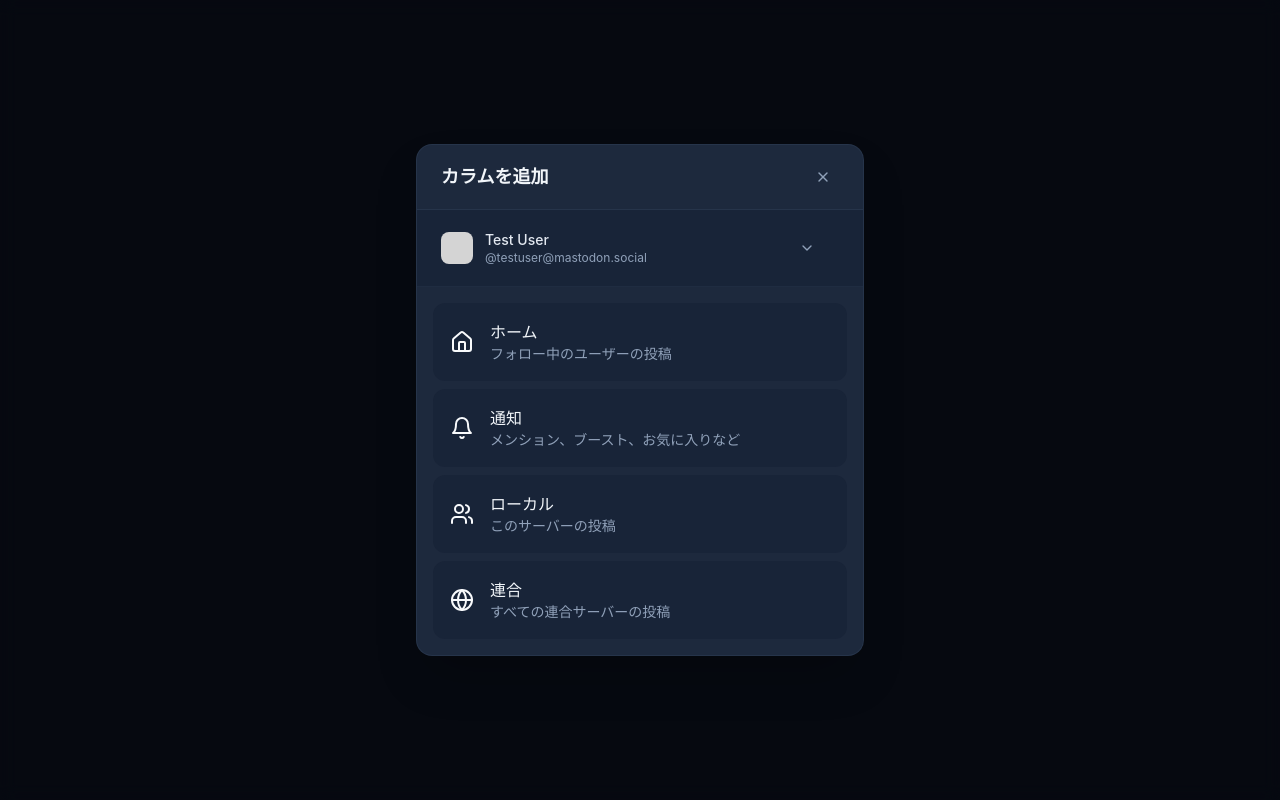
Scenario: AddColumnModal › account selector › should open dropdown when account button is clicked
Click the button with aria-label "アカウント選択" at (628, 248), box 429,222 -> 827,274
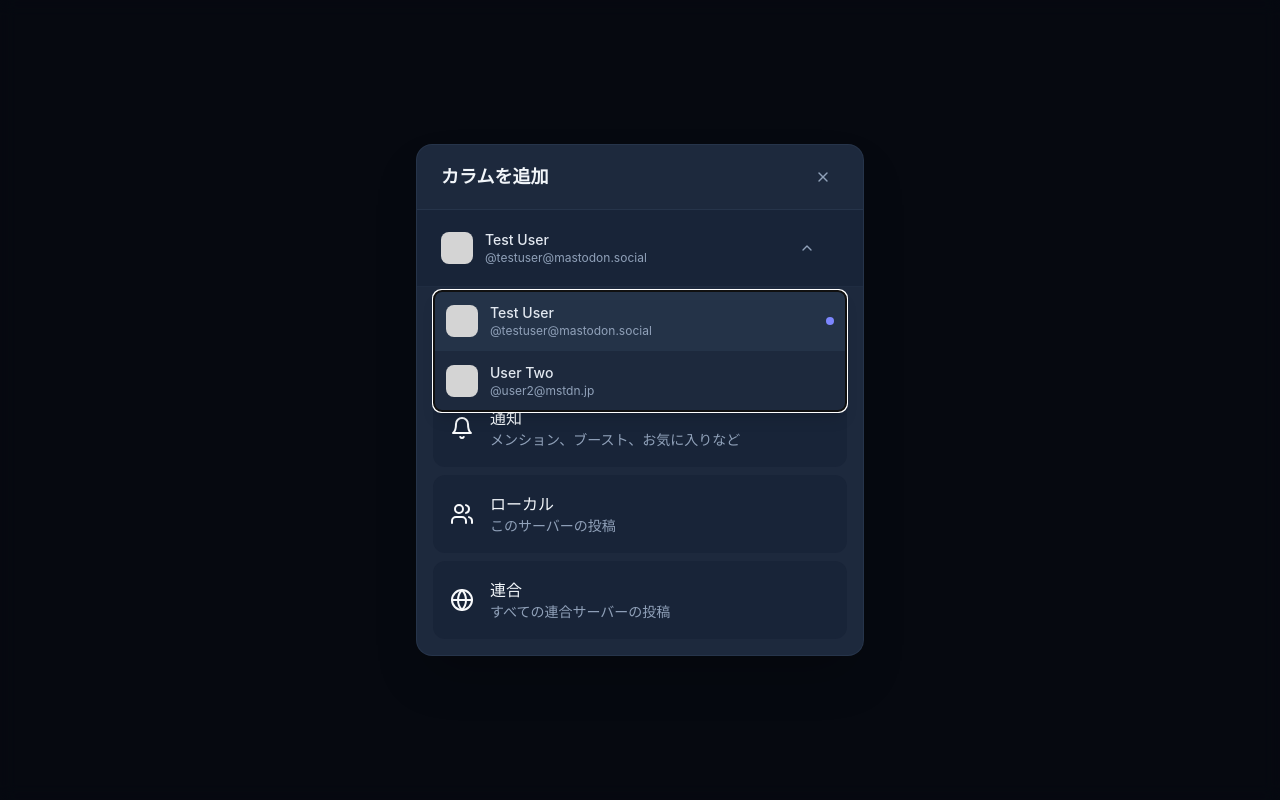
Expected: the list is shown, 433,290 -> 847,412
